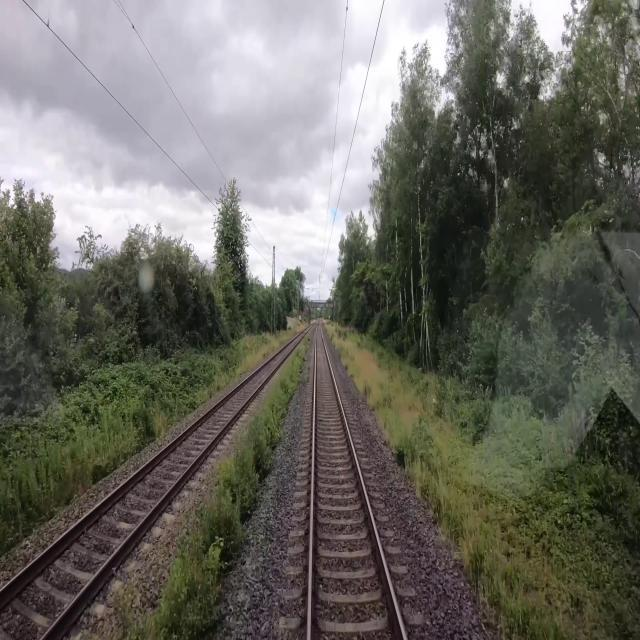Plant: (112, 332, 309, 639)
